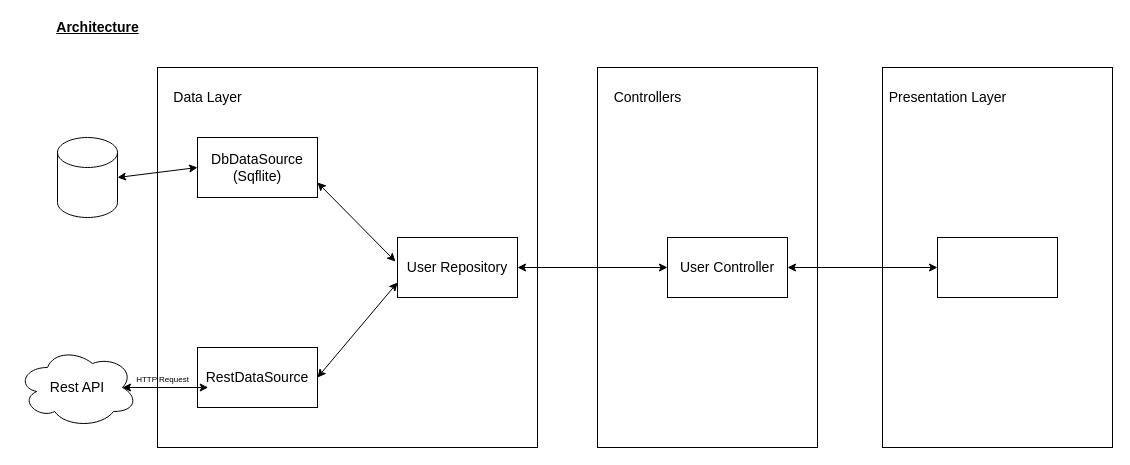
Some shapes in this 1130 by 465 pixel diagram are drawn without their labels. Here are the shapes that lost their labels. From the top down, the box of each, then its label:
(56, 136, 118, 218): SQLite
(936, 236, 1058, 298): Widgets
